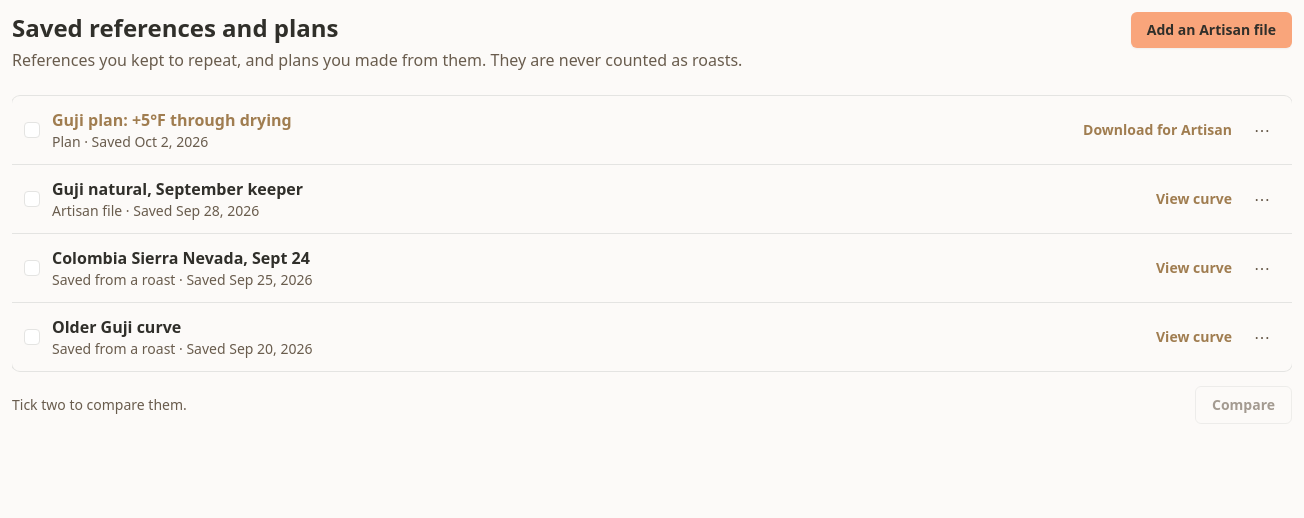
Test case: renaming › leaves the name alone on Cancel and on Escape
The image size is (1304, 518).
Step 1. Click the button "⋯" in the row of "Guji natural, September keeper" → point(1262, 199), box [1244,181,1280,217]
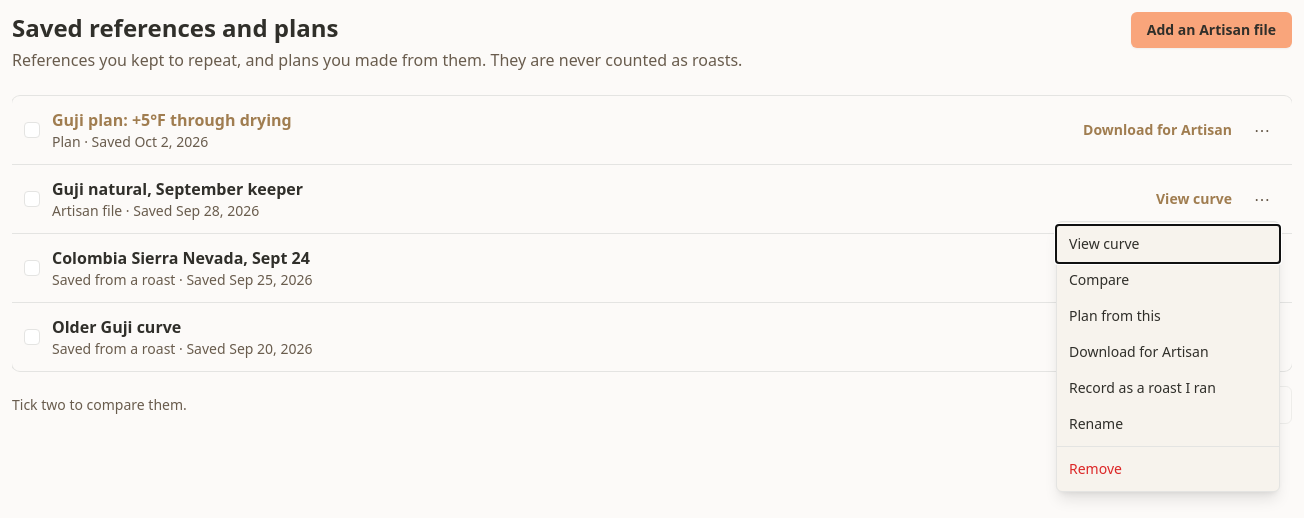
Step 2. Click the menu item "Rename" → point(1168, 424), box [1057,406,1279,442]
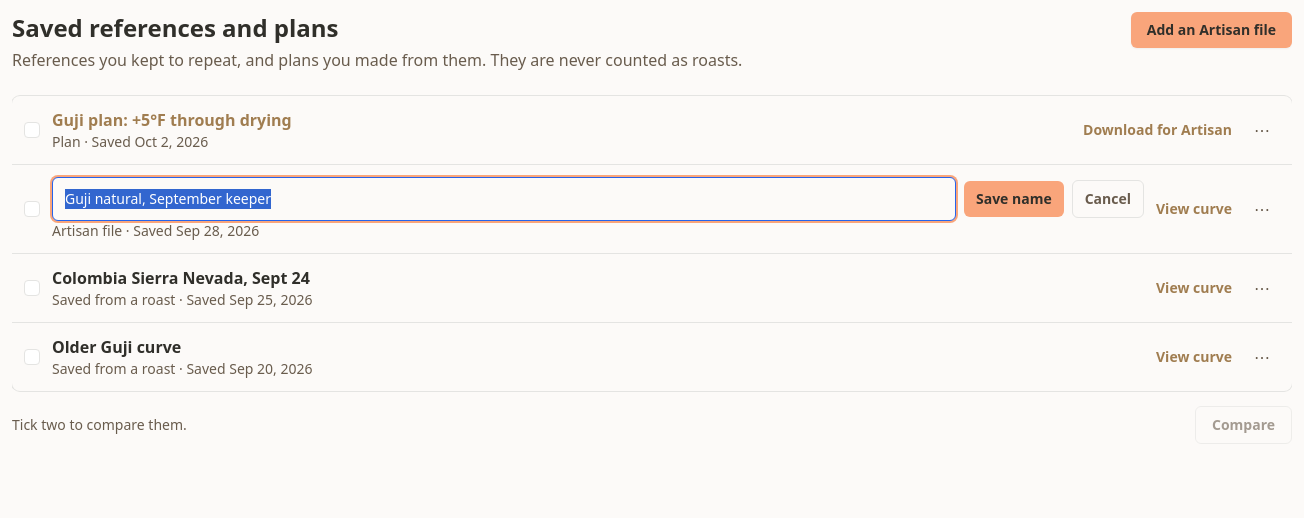
Step 3. Replace the text in the field named "Name" with "Changed" → point(504, 199), box [52,177,956,221]
Step 4. Click the button "Cancel" → point(1108, 199), box [1072,180,1144,218]
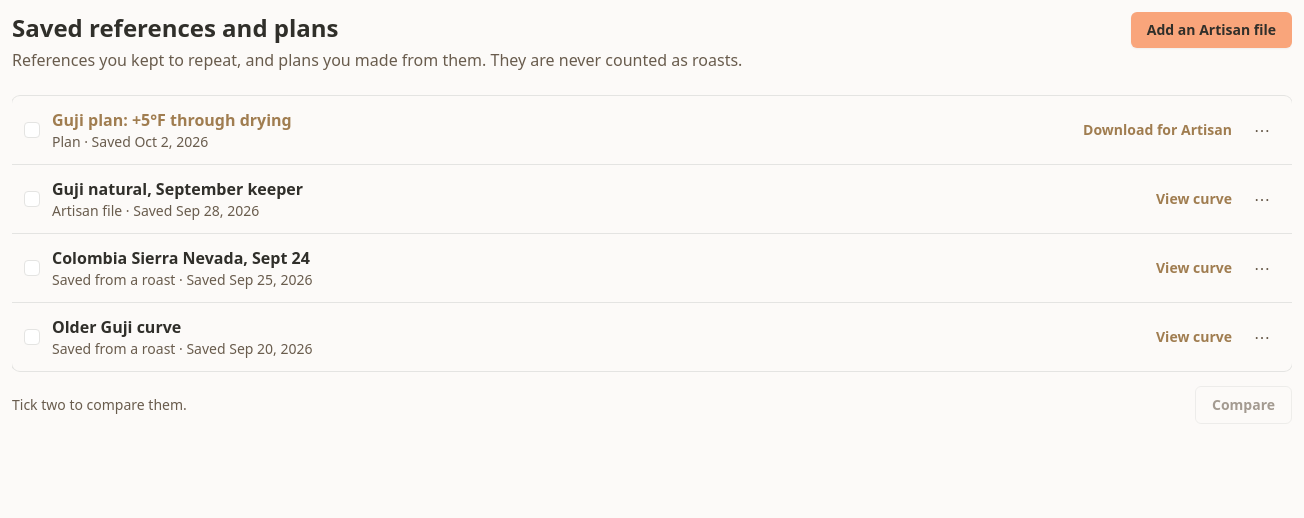
Check: the button labelled "name" is gone
Step 5. Click the button "⋯" in the row of "Guji natural, September keeper" → point(1262, 199), box [1244,181,1280,217]
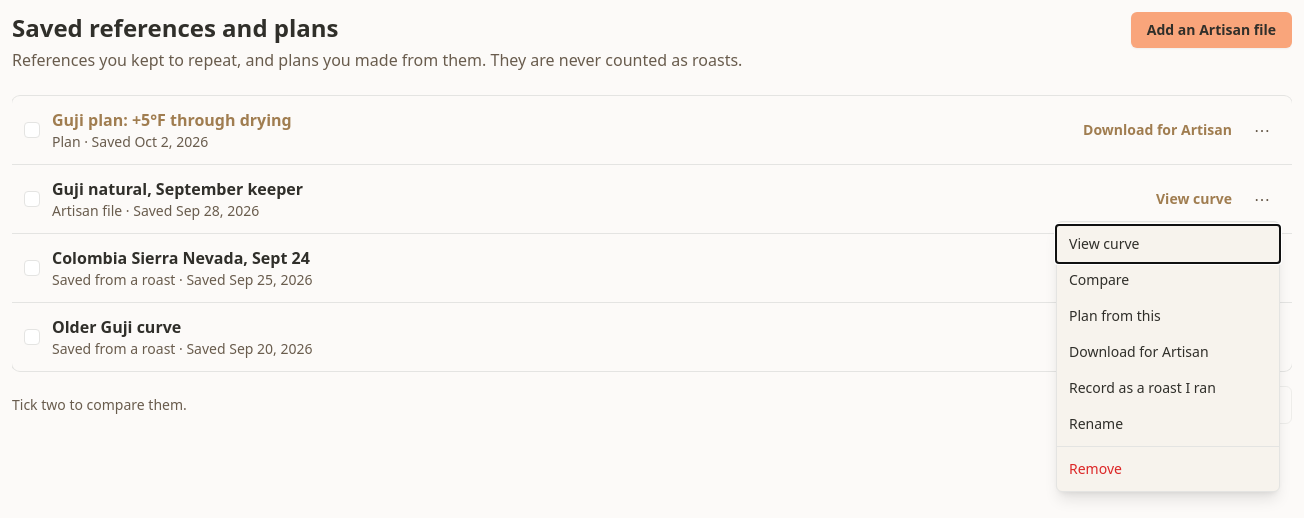
Step 6. Click the menu item "Rename" → point(1168, 424), box [1057,406,1279,442]
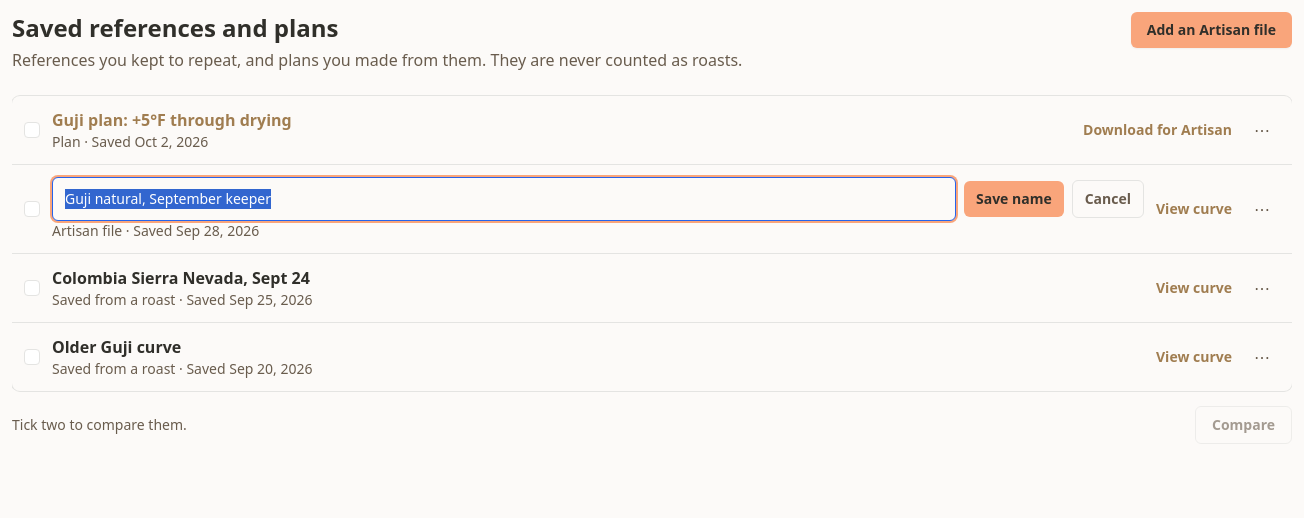
Step 7. Press Escape in the field named "Name", box [52,177,956,221]
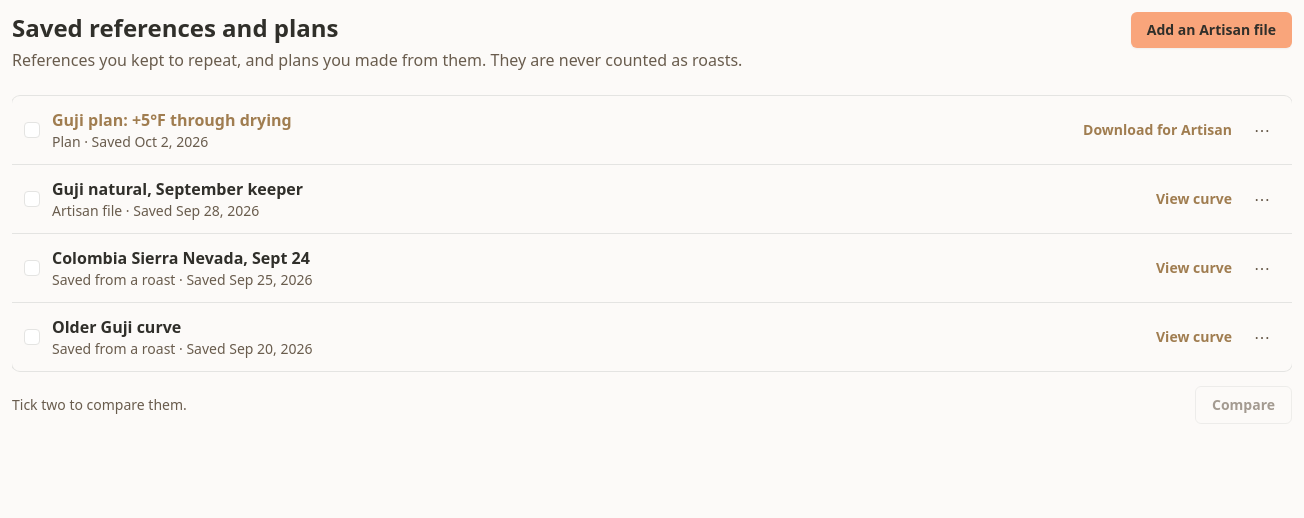
Check: the button labelled "name" is gone
